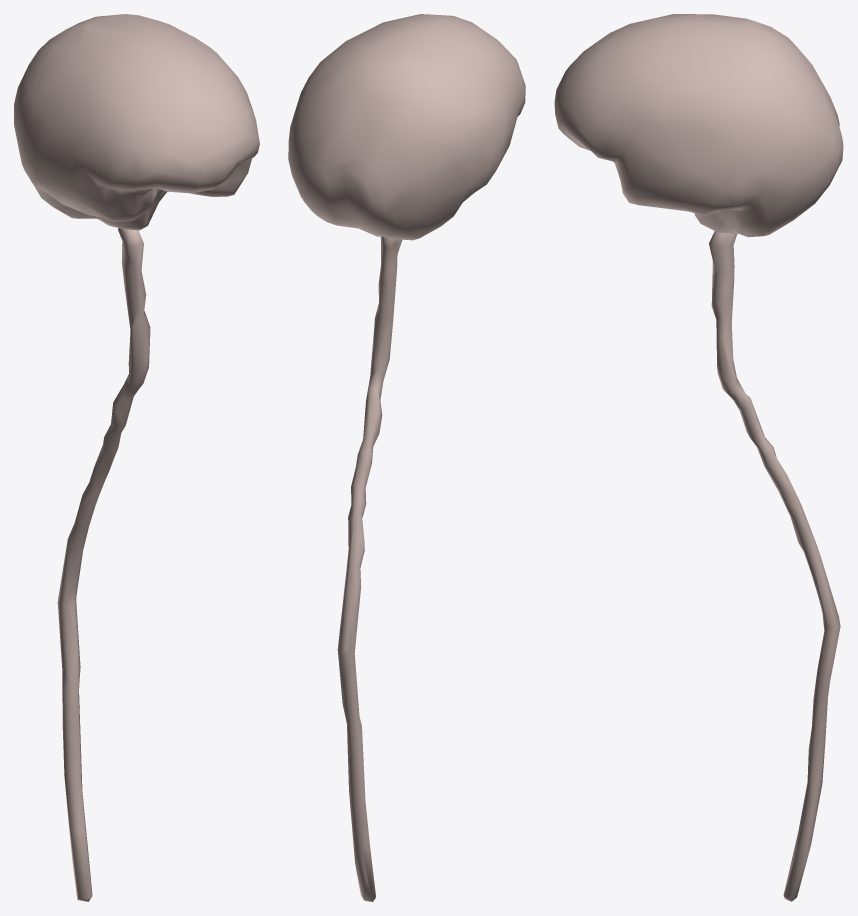
Rendered from icrp_adult_male.nervous.LOD2.glb.
3 views of the same model, side by side, from view 1: azimuth 30°, elevation 25°; view 2: azimuth 150°, elevation 25°; view 3: azimuth 270°, elevation 25° (orthographic). The views are drawn at different scales.
Parts seen in each view (by area): view 1: ICRP.ADULT.MALE.NERVOUS.BRAIN, ICRP.ADULT.MALE.NERVOUS.SPINAL_CORD; view 2: ICRP.ADULT.MALE.NERVOUS.BRAIN, ICRP.ADULT.MALE.NERVOUS.SPINAL_CORD; view 3: ICRP.ADULT.MALE.NERVOUS.BRAIN, ICRP.ADULT.MALE.NERVOUS.SPINAL_CORD.
Part boxes in pixels (x1,y1,x2,y2): ICRP.ADULT.MALE.NERVOUS.BRAIN: [14, 14, 259, 230]; ICRP.ADULT.MALE.NERVOUS.SPINAL_CORD: [57, 228, 150, 901]; ICRP.ADULT.MALE.NERVOUS.BRAIN: [288, 14, 525, 240]; ICRP.ADULT.MALE.NERVOUS.SPINAL_CORD: [337, 236, 402, 901]; ICRP.ADULT.MALE.NERVOUS.BRAIN: [554, 14, 843, 237]; ICRP.ADULT.MALE.NERVOUS.SPINAL_CORD: [709, 231, 840, 901].
Size of the model in its own units: 0.1387 by 0.5901 by 0.1762.
